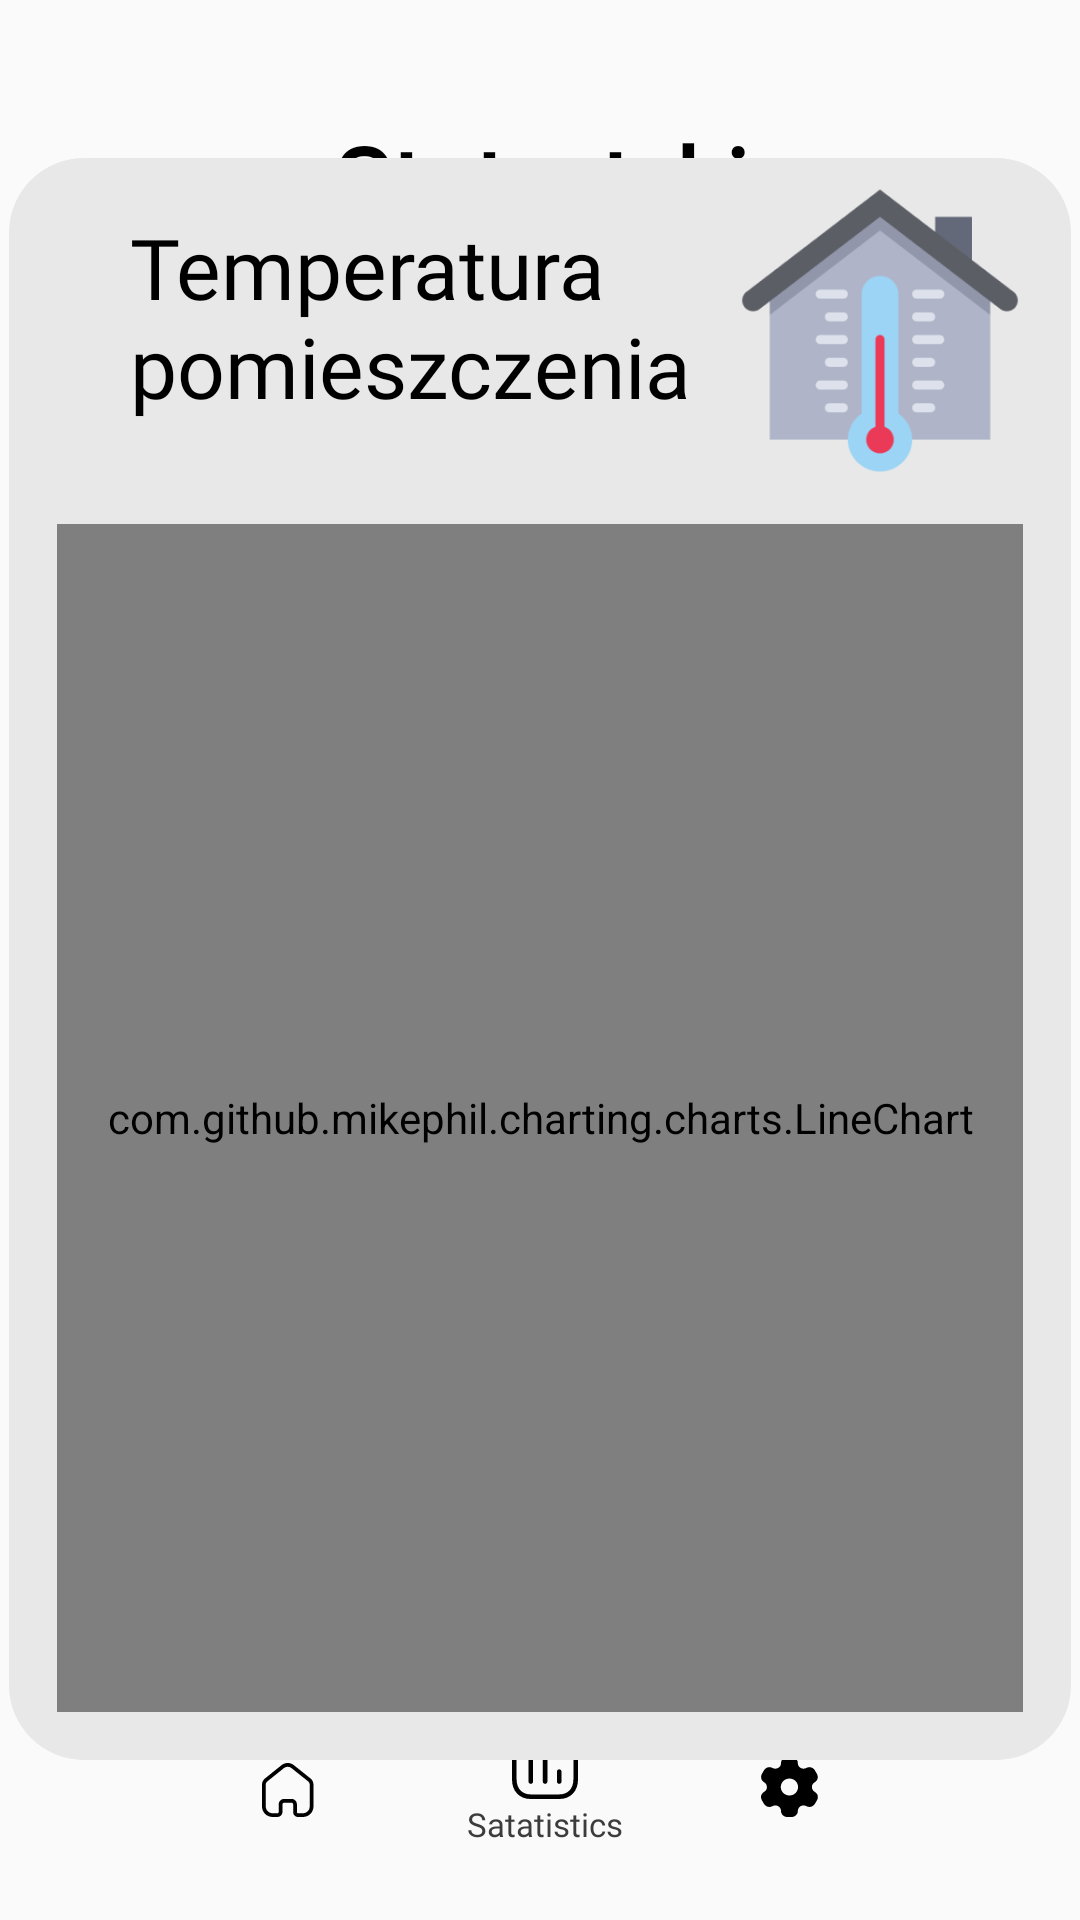

Where to tap for icons on this 1080px×1920px app screen, as (x,y):
home: (288,1790)
settings: (789,1788)
